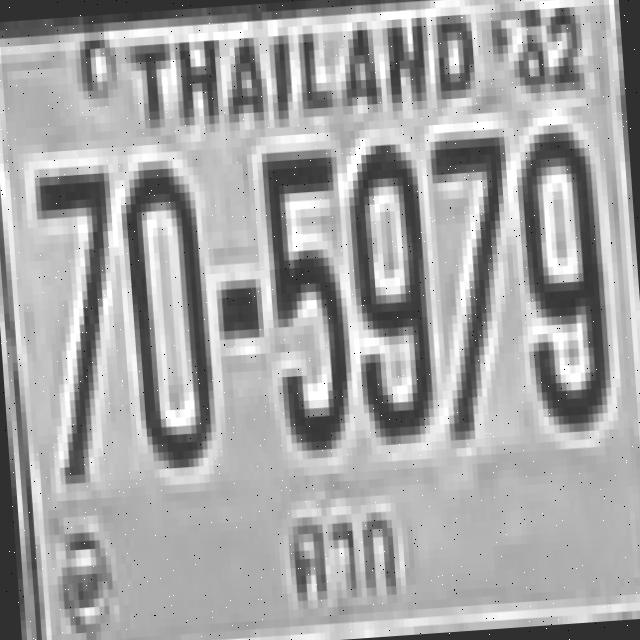0: (118, 158, 212, 462)
5: (256, 140, 350, 444)
7: (29, 164, 124, 476), (424, 129, 519, 432), (28, 164, 118, 377)
9: (513, 122, 608, 426), (340, 134, 435, 438)
Tak: (279, 500, 408, 618)
